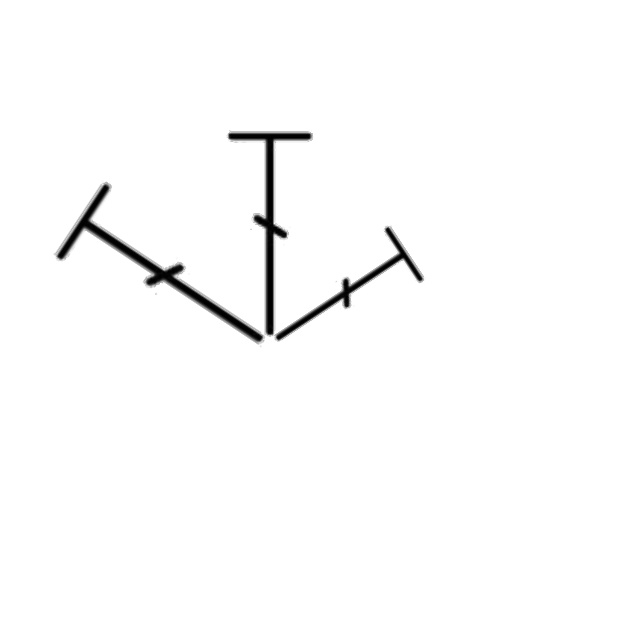chain: (45, 171, 299, 386), (251, 220, 433, 374), (224, 123, 318, 344)
